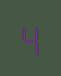four: (19, 20, 40, 55)
